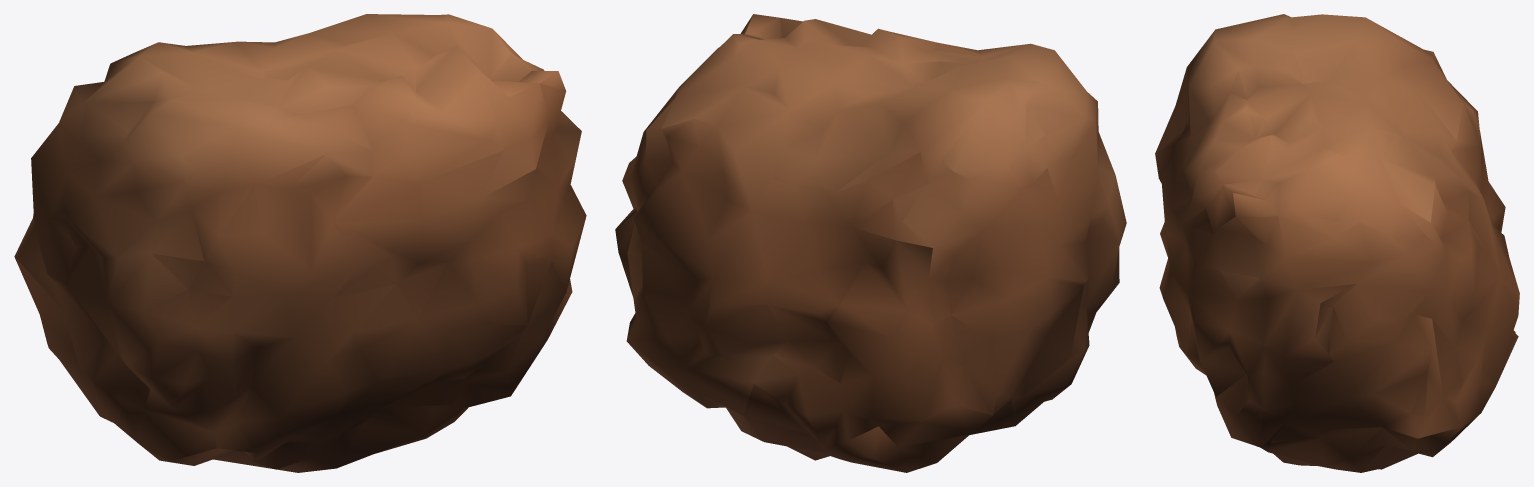
The model's file is canopy_bark_chip_lod1.glb.
The picture shows the model from 3 angles, left to right: view 1: azimuth 30°, elevation 25°; view 2: azimuth 150°, elevation 25°; view 3: azimuth 270°, elevation 25°; orthographic projection. The views are drawn at different scales.
Parts seen in each view (by area): view 1: canopy_bark_chip.001; view 2: canopy_bark_chip.001; view 3: canopy_bark_chip.001.
Boxes of the visible parts, x1=… form: canopy_bark_chip.001: x1=14, y1=14, x2=586, y2=472; canopy_bark_chip.001: x1=615, y1=14, x2=1126, y2=472; canopy_bark_chip.001: x1=1155, y1=14, x2=1519, y2=472.
Size of the model in its own units: 4.11 by 3.41 by 3.05.
